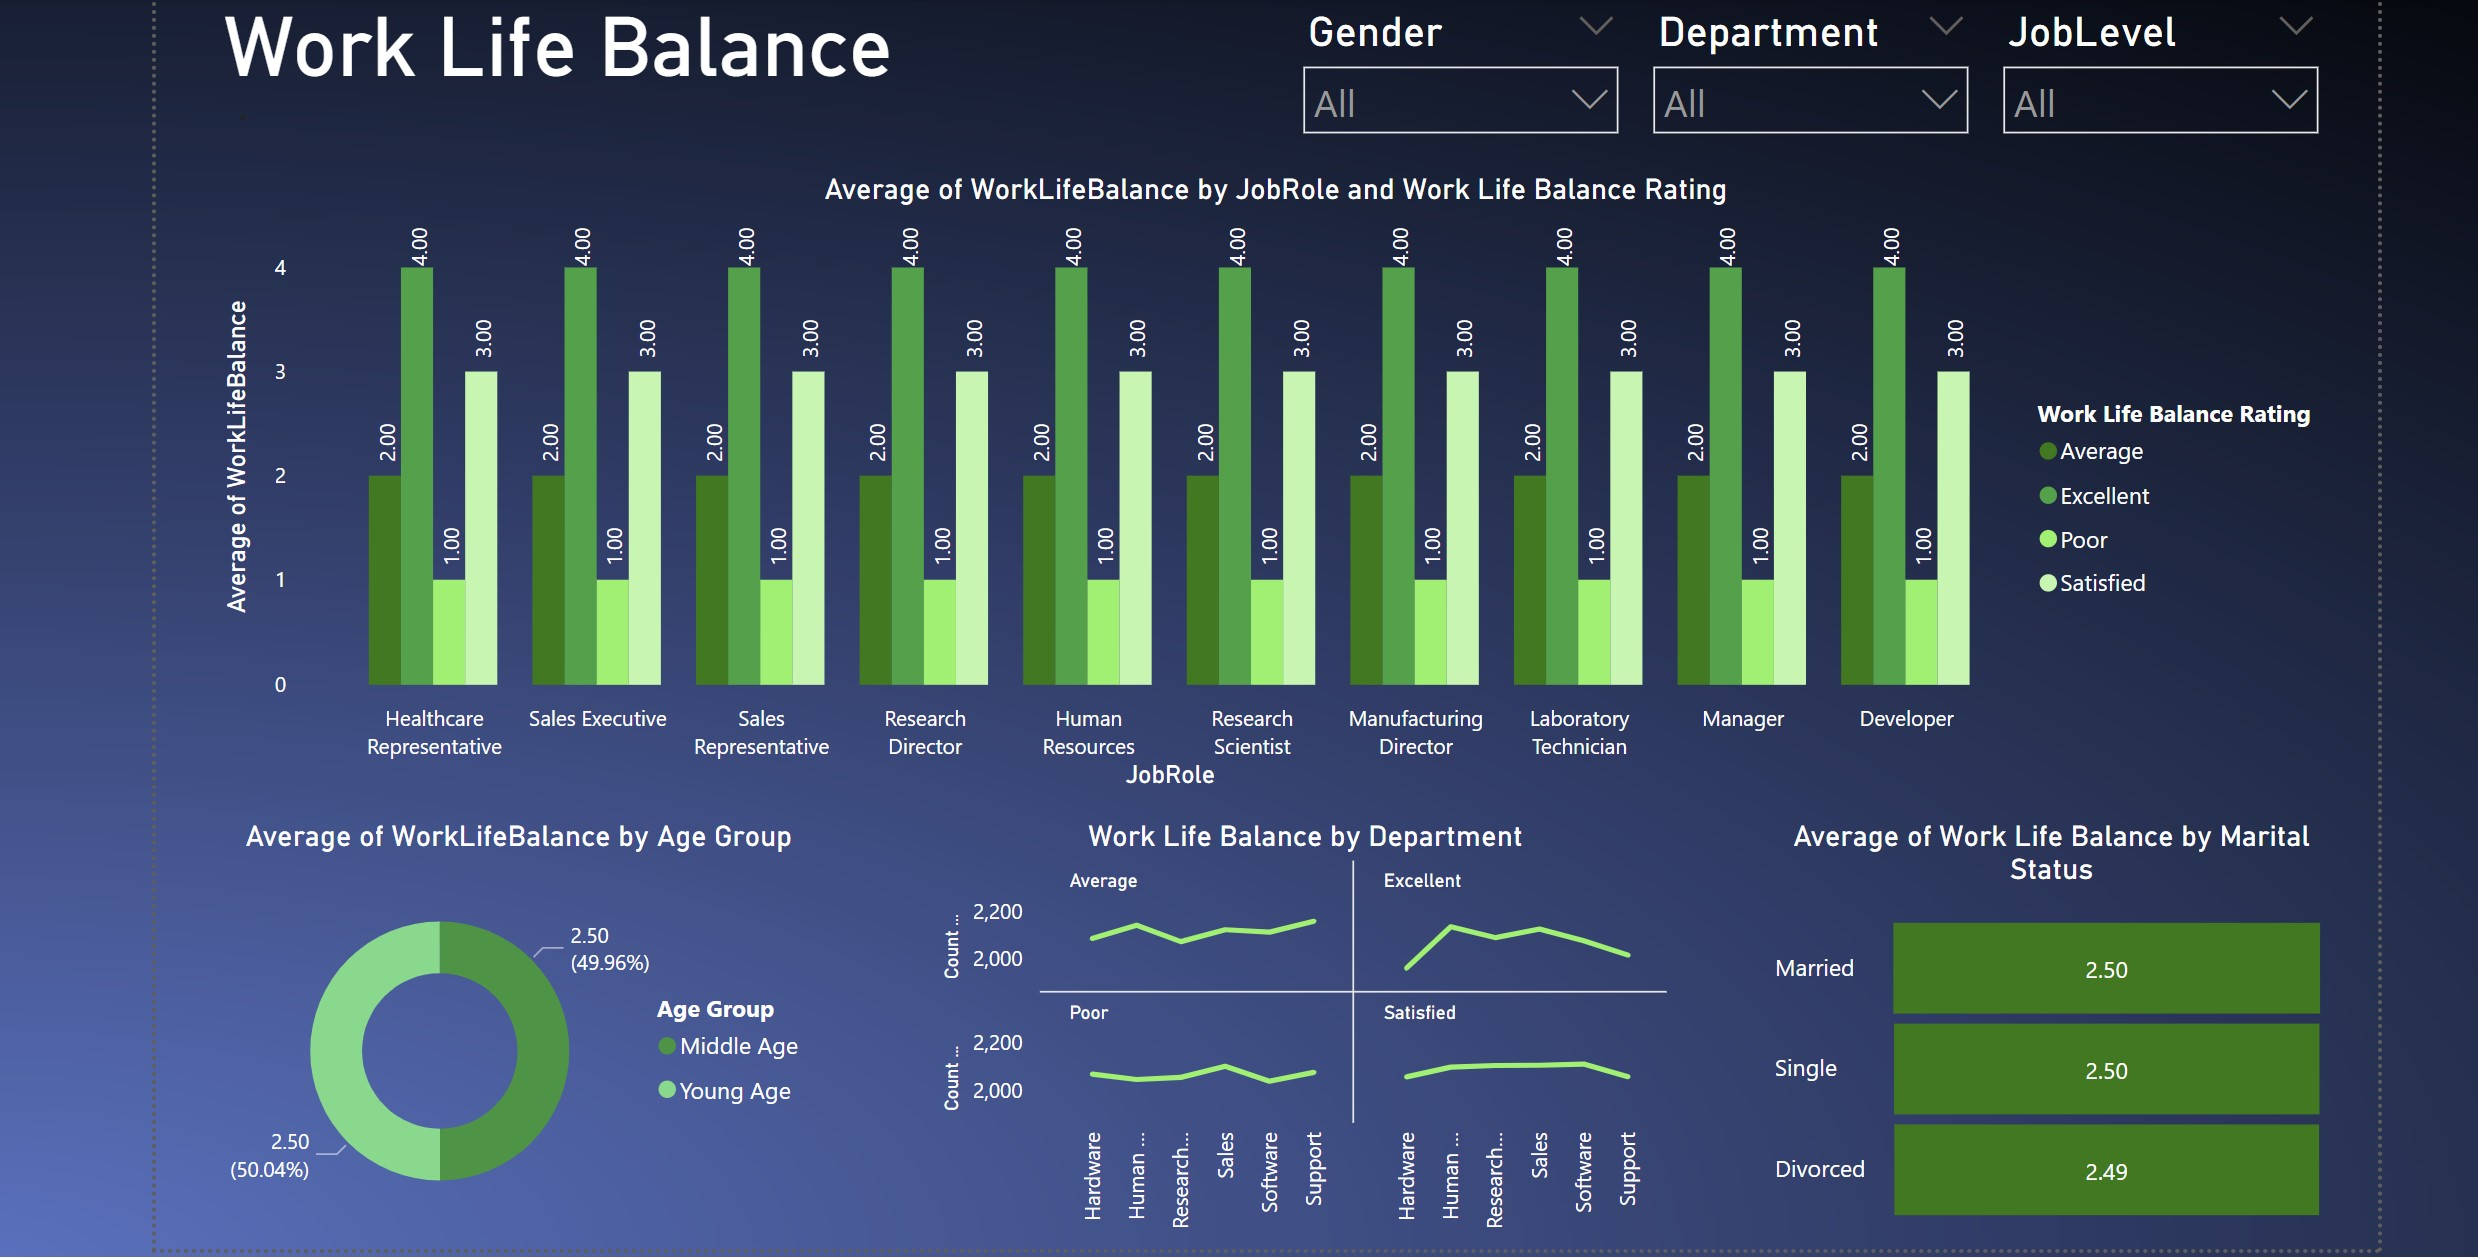

What the dashboard file says about the page in this screenshot:
{"tool":"powerbi","page":{"name":"Work Life Balance","canvas":[1280,720],"ordinal":3},"visuals":[{"type":"textbox","title":"Work Life Balance","box":[32.9,0,746.1,83.7],"z":0},{"type":"slicer","fields":{"Values":["Hr_1.JobLevel"]},"box":[1054.6,0,201.6,83.7],"z":1000},{"type":"donutChart","fields":{"Y":["Avg(Hr_2.WorkLifeBalance)"],"Series":["Hr_1.Age Group"]},"box":[32.9,471.8,351.1,248.2],"z":2000},{"type":"clusteredColumnChart","fields":{"Category":["Hr_1.JobRole"],"Series":["Hr_2.Work Life Balance Rating"],"Y":["Avg(Hr_2.WorkLifeBalance)"]},"box":[32.9,100.1,1223.3,359.3],"z":3000},{"type":"funnel","title":"Average of Work Life Balance by Marital Status","fields":{"Category":["Hr_1.MaritalStatus"],"Y":["Avg(Hr_2.WorkLifeBalance)"]},"box":[927.1,471.8,329.1,248.2],"z":4000},{"type":"lineChart","title":"Work Life Balance by Department","fields":{"Category":["Hr_1.Department"],"Y":["CountNonNull(Hr_2.Work Life Balance Rating)"],"Rows":["Hr_2.Work Life Balance Rating"]},"box":[448.5,471.8,427.9,248.2],"z":5000},{"type":"slicer","fields":{"Values":["Hr_1.Gender"]},"box":[651.4,0,201.6,83.7],"z":6000},{"type":"slicer","fields":{"Values":["Hr_1.Department"]},"box":[853,0,201.6,83.7],"z":7000}]}

Visuals, with their boxes on the page's 1280x720 design canvas (x1, y1, x2, y2). These are canvas units, not pixel positions in the 2478x1258 screenshot, which may show the page scaled, cropped or inside an application window:
"Work Life Balance" textbox: [33,0,779,84]
slicer - Hr_1.JobLevel: [1055,0,1256,84]
donutChart - Avg(Hr_2.WorkLifeBalance) x Hr_1.Age Group: [33,472,384,720]
clusteredColumnChart - Hr_1.JobRole x Hr_2.Work Life Balance Rating: [33,100,1256,459]
"Average of Work Life Balance by Marital Status" funnel: [927,472,1256,720]
"Work Life Balance by Department" lineChart: [448,472,876,720]
slicer - Hr_1.Gender: [651,0,853,84]
slicer - Hr_1.Department: [853,0,1055,84]
